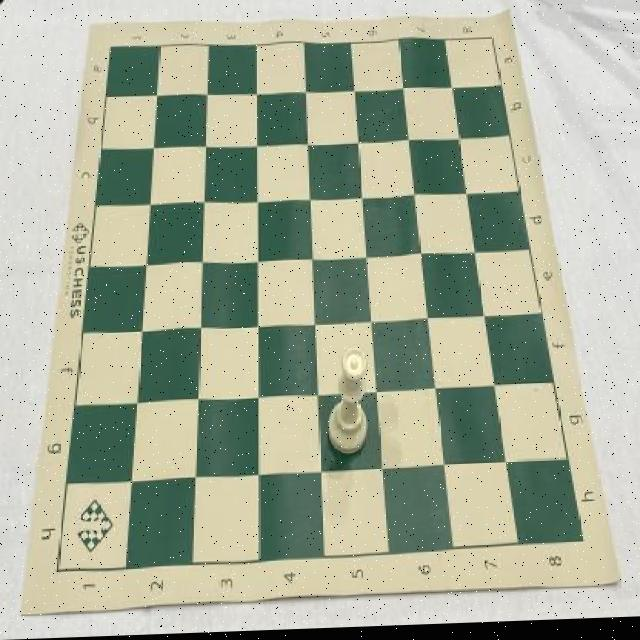white-pawn: (328, 348, 368, 460)
